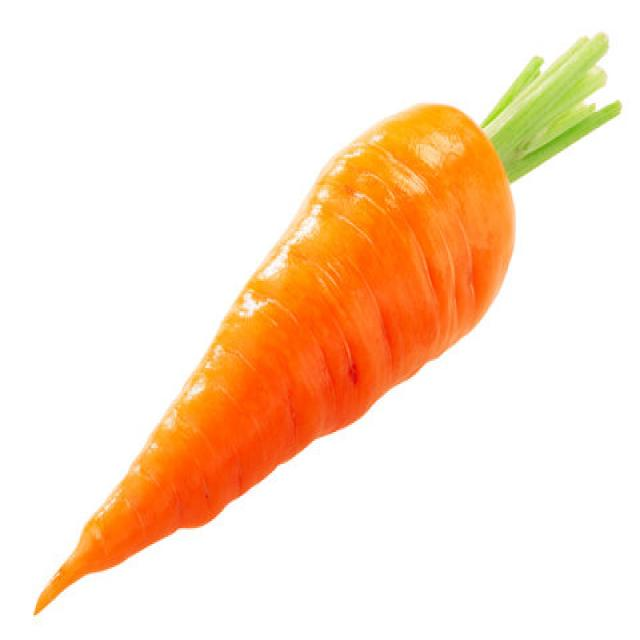Carrot: (32, 30, 620, 615)
